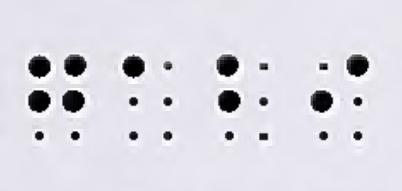letter_a: (120, 52, 176, 144)
letter_b: (219, 54, 272, 148)
letter_g: (29, 52, 87, 148)
letter_i: (309, 54, 368, 143)
